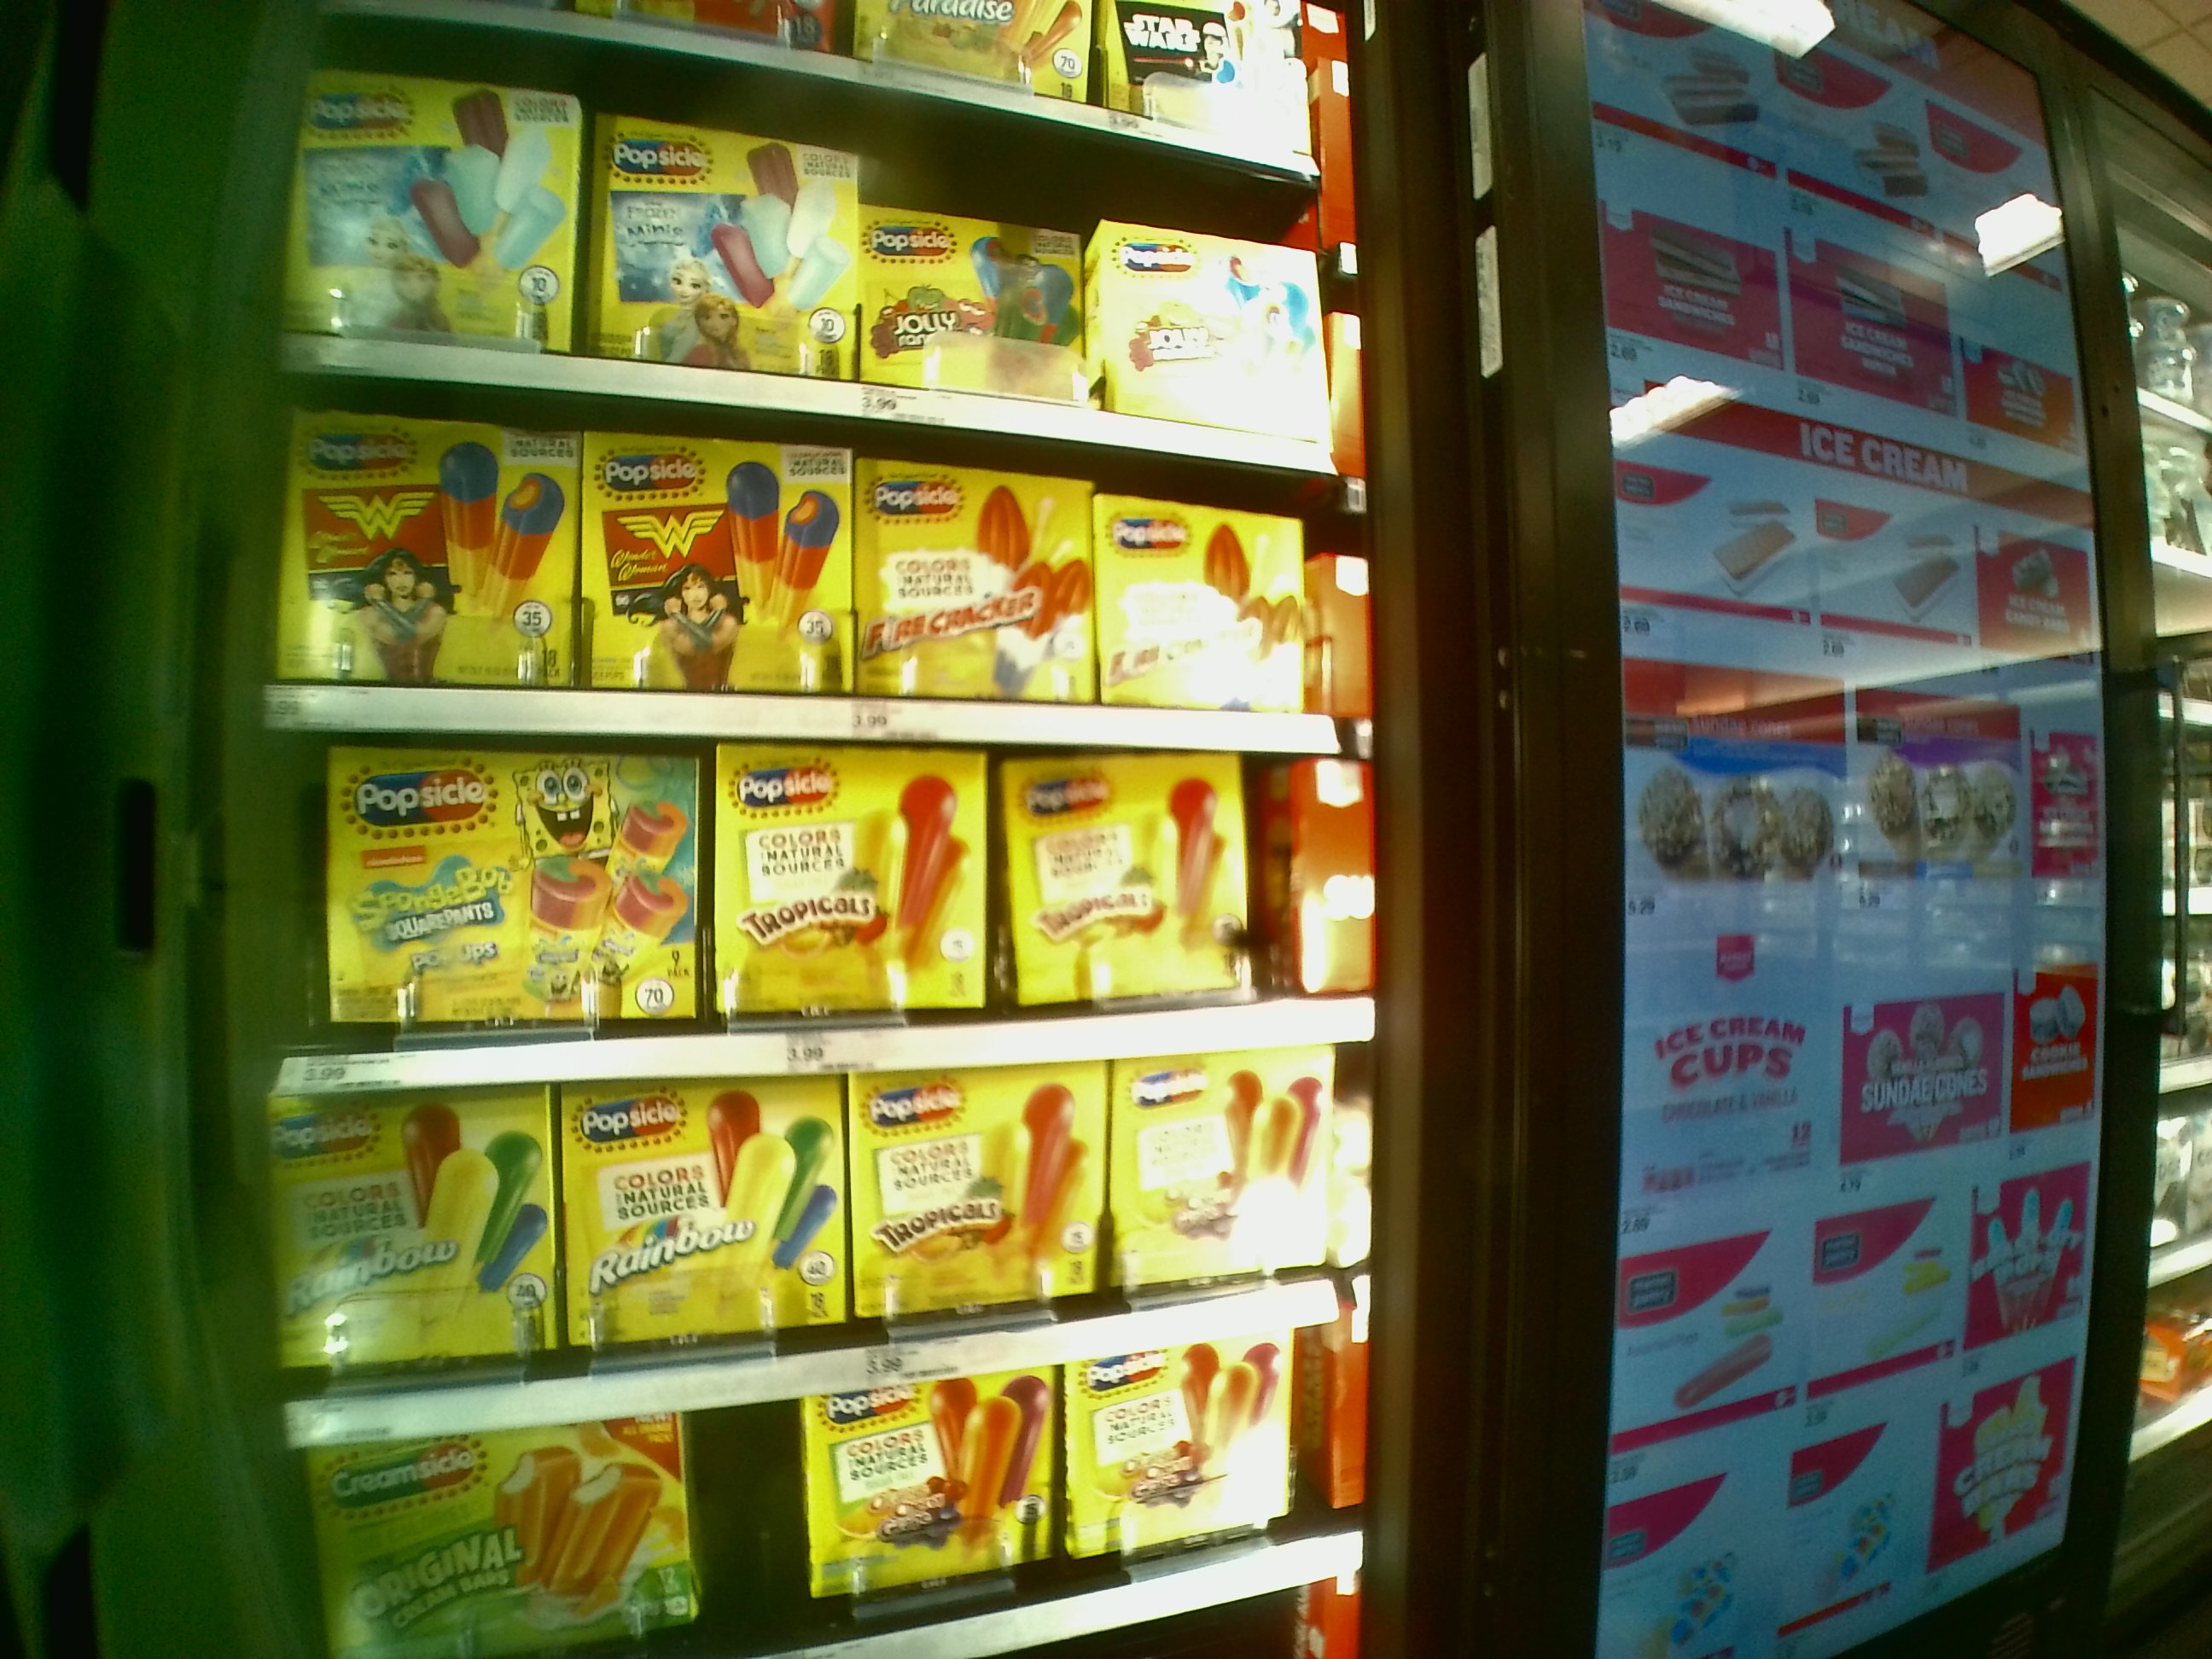shelf: (293, 96, 1364, 441), (275, 420, 1378, 749), (263, 742, 1372, 1058), (270, 1049, 1350, 1370)
